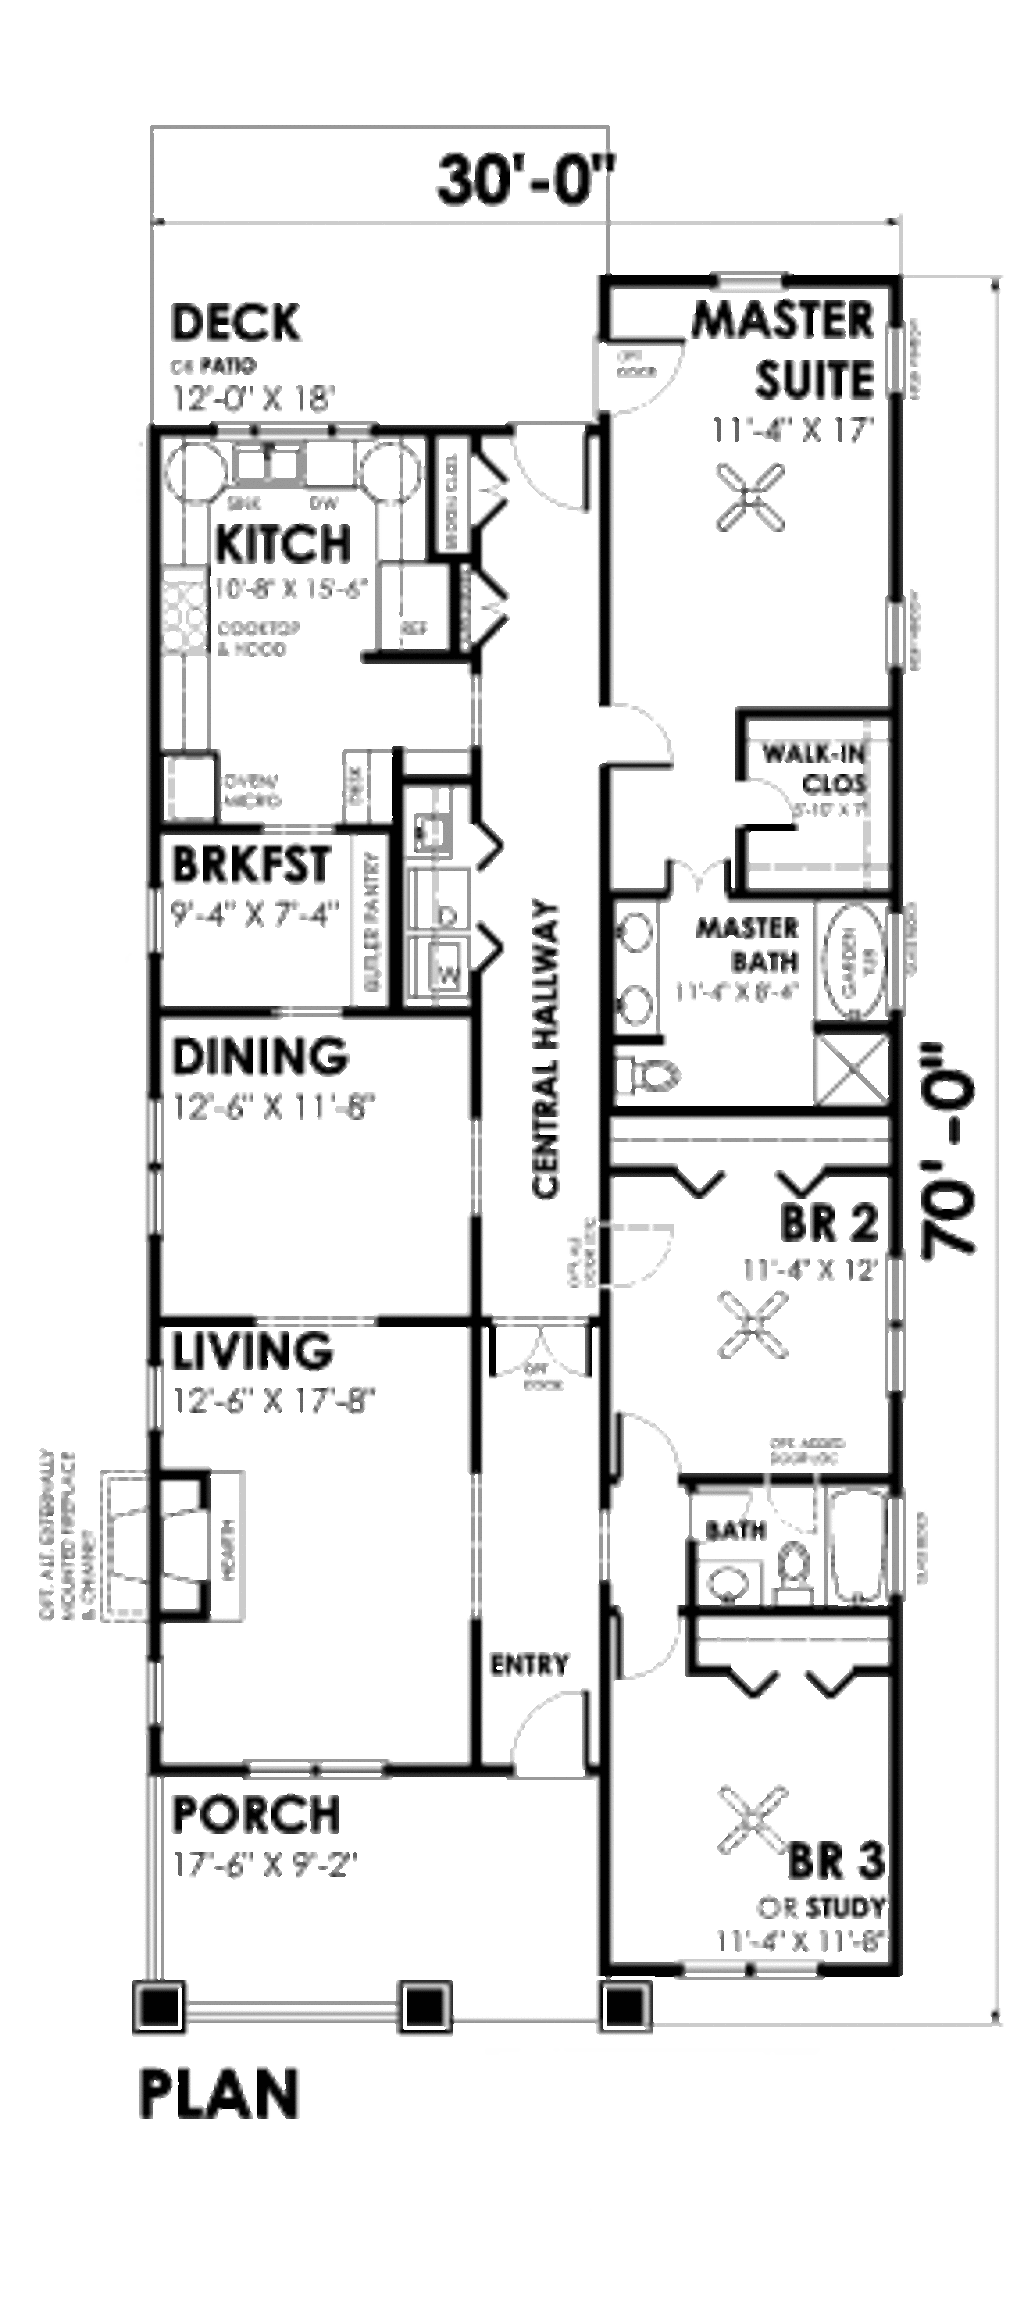door: (503, 419, 624, 524), (593, 1597, 713, 1676), (508, 1673, 593, 1775), (613, 1399, 695, 1500), (718, 759, 817, 839), (451, 563, 515, 651), (468, 427, 519, 532)
large_sink: (605, 1035, 695, 1111), (777, 1535, 829, 1606)
small_sink: (613, 893, 678, 1032), (695, 1566, 769, 1602)
tub: (808, 884, 891, 1028), (817, 1475, 909, 1597)
twin_sink: (218, 427, 317, 485)
window: (234, 1739, 394, 1794), (866, 597, 957, 682), (872, 1254, 920, 1409), (136, 1086, 183, 1236), (710, 247, 804, 309), (879, 318, 932, 404), (146, 868, 179, 966)
